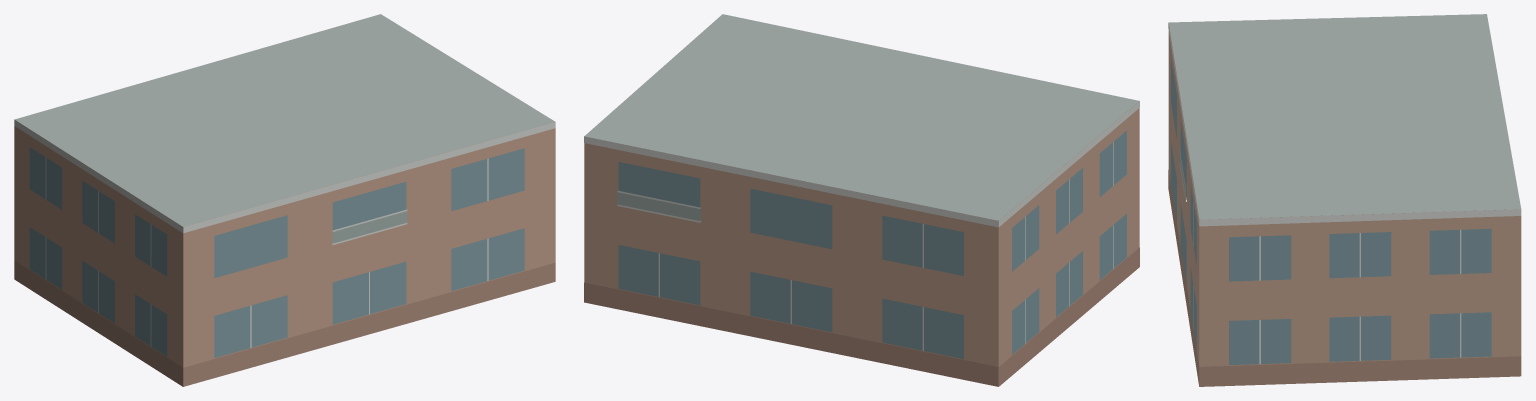
File: survey-upis-32915903.glb
3 views of the same model, side by side, from view 1: azimuth 30°, elevation 25°; view 2: azimuth 150°, elevation 25°; view 3: azimuth 270°, elevation 25° (orthographic). The views are drawn at different scales.
Visible parts, largest first — view 1: survey-upis-32915903.tmp; view 2: survey-upis-32915903.tmp; view 3: survey-upis-32915903.tmp.
Boxes of the visible parts, x1,y1,x2,y2 form: survey-upis-32915903.tmp: (14,14,555,386); survey-upis-32915903.tmp: (584,14,1139,386); survey-upis-32915903.tmp: (1168,14,1521,386).
Bounding box in the file's own units: 16.12 × 6.1 × 11.68.
